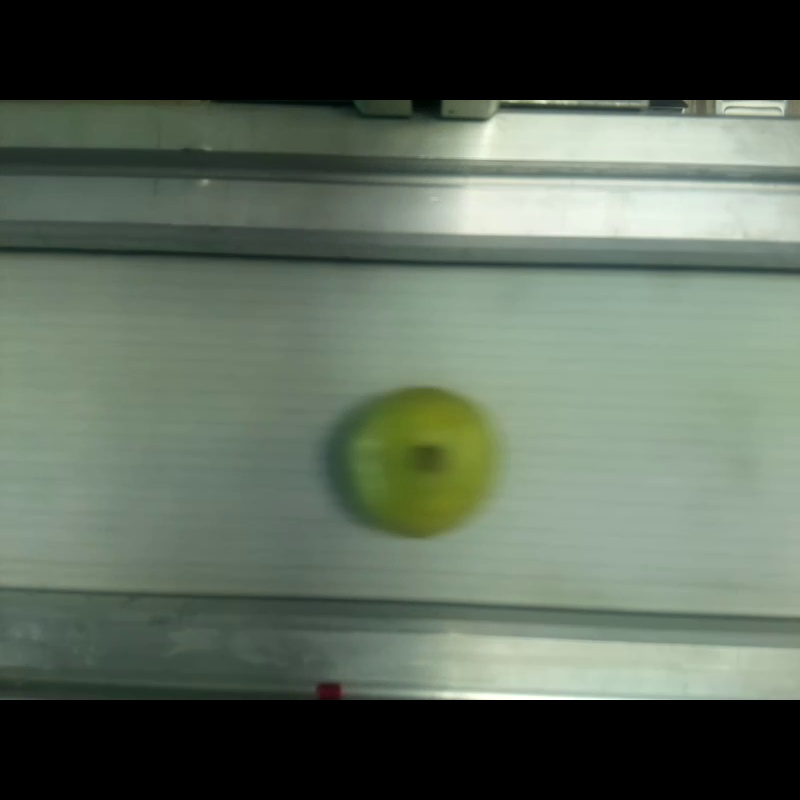lime: (344, 387, 496, 536)
